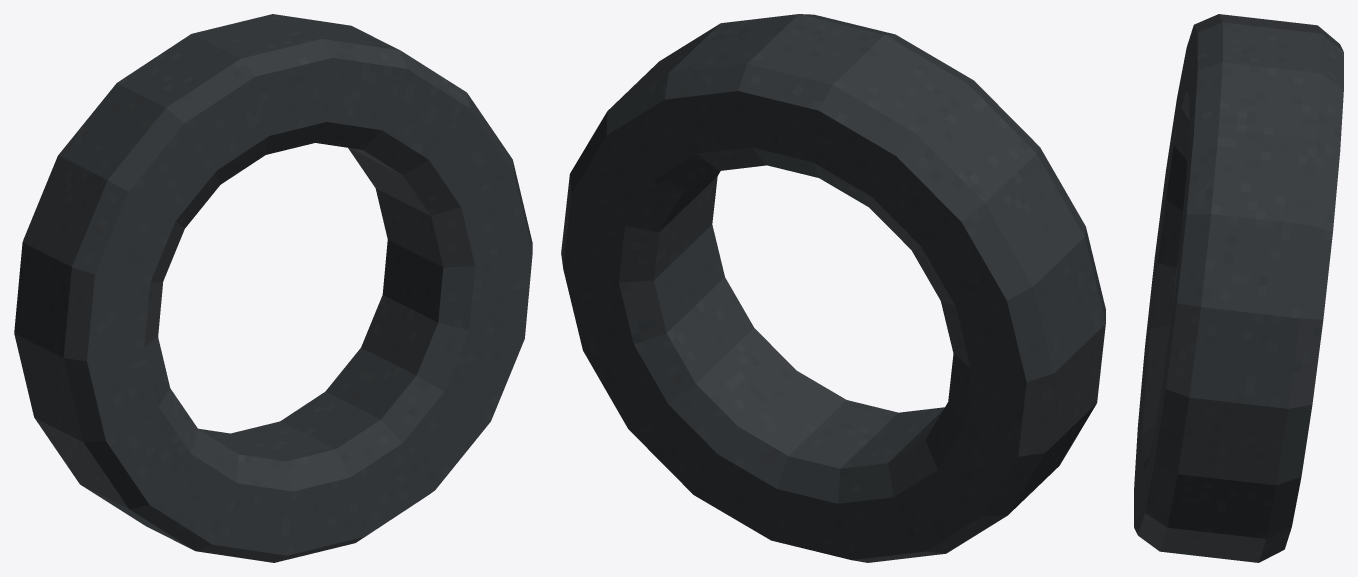
File: tire_medium_slick.glb
3 renders of one model, left to right at view 1: azimuth 30°, elevation 25°; view 2: azimuth 150°, elevation 25°; view 3: azimuth 270°, elevation 25°, orthographic. The views are drawn at different scales.
Parts seen in each view (by area): view 1: block_wheel cross section; view 2: block_wheel cross section; view 3: block_wheel cross section.
Part boxes in pixels (left/top/right/bottom): block_wheel cross section: left=14, top=14, right=532, bottom=562; block_wheel cross section: left=561, top=14, right=1105, bottom=562; block_wheel cross section: left=1134, top=14, right=1343, bottom=562.
Bounding box in the file's own units: 0.4025 × 0.4025 × 0.1556.
Materials: 1 (1 with a texture image).
